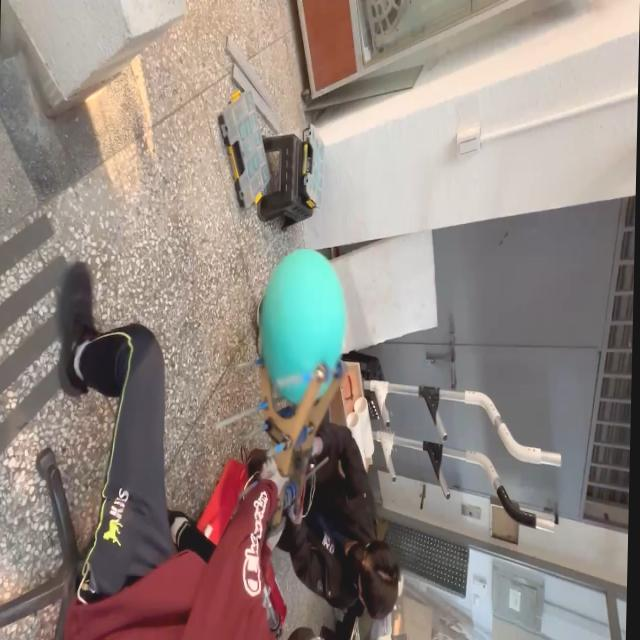ALGAE: (254, 245, 348, 406)
